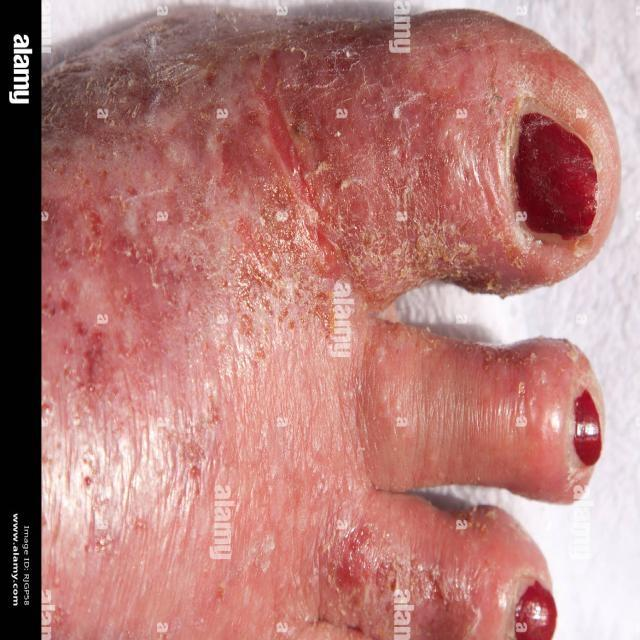Eczema: (42, 13, 503, 640)
